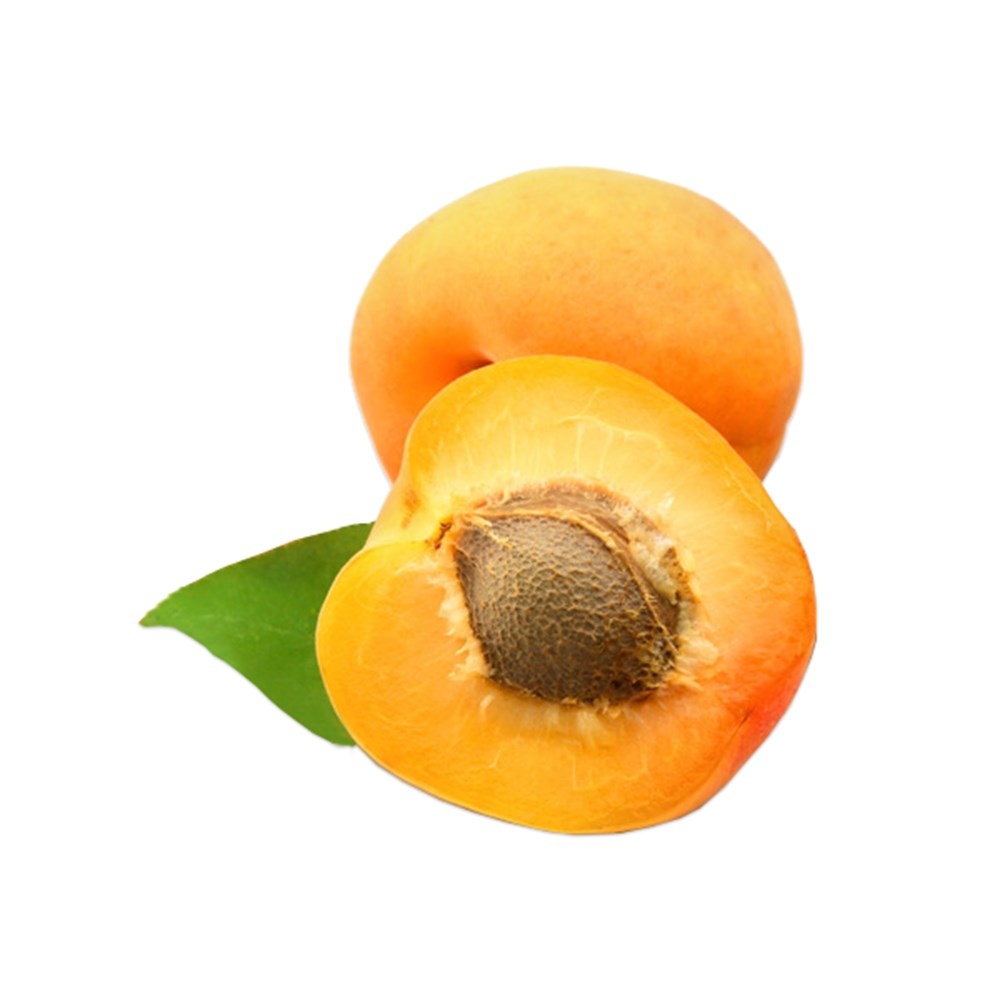Apricot: (320, 357, 826, 838)
